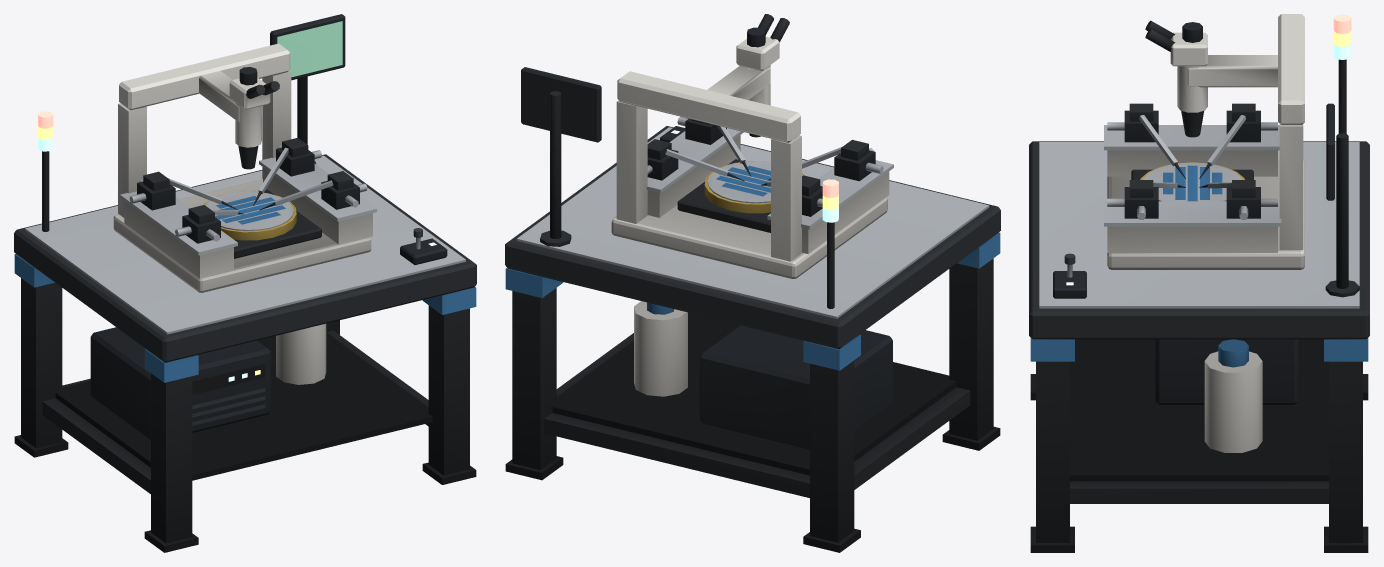
File: probeStation.glb
3 renders of one model, left to right at view 1: azimuth 30°, elevation 25°; view 2: azimuth 150°, elevation 25°; view 3: azimuth 270°, elevation 25°, orthographic. The views are drawn at different scales.
Parts seen in each view (by area): view 1: probeStation; view 2: probeStation; view 3: probeStation.
Part boxes in pixels (x1=…): probeStation: x1=14, y1=14, x2=476, y2=552; probeStation: x1=505, y1=14, x2=1000, y2=552; probeStation: x1=1029, y1=14, x2=1369, y2=552.
Bounding box in the file's own units: 1.2 × 1.43 × 1.
